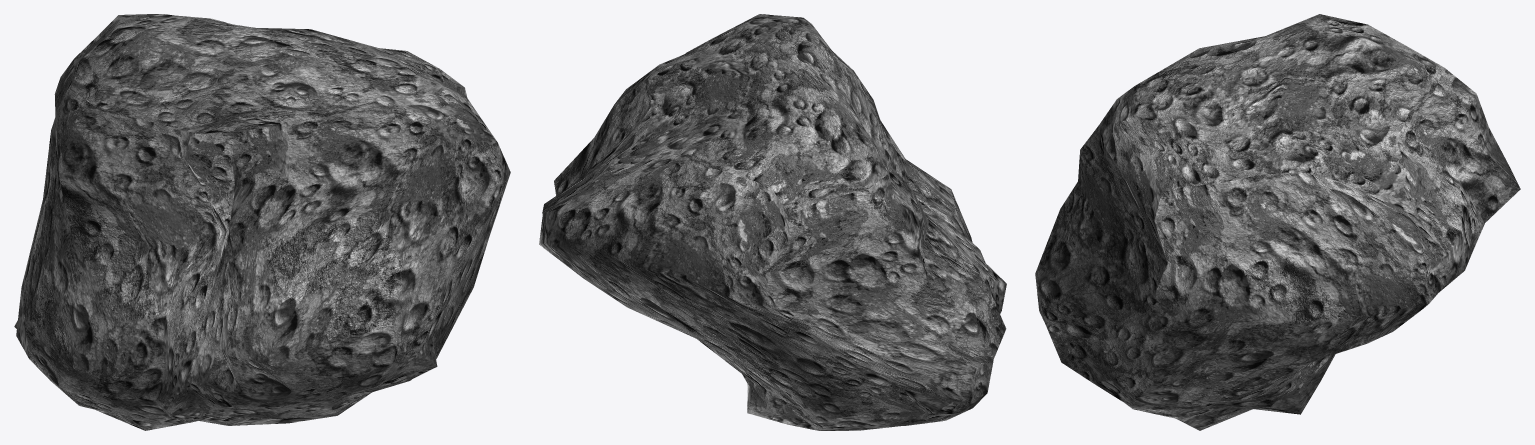
File: ASteroid003.FBX
3 renders of one model, left to right at view 1: azimuth 30°, elevation 25°; view 2: azimuth 150°, elevation 25°; view 3: azimuth 270°, elevation 25°, orthographic. The views are drawn at different scales.
Parts seen in each view (by area): view 1: Box001; view 2: Box001; view 3: Box001.
Boxes of the visible parts, box(x1,y1,x2,y2) form: Box001: box(14, 14, 510, 430); Box001: box(539, 14, 1006, 430); Box001: box(1035, 14, 1520, 430).
Bounding box in the file's own units: 120 × 98.85 × 117.
